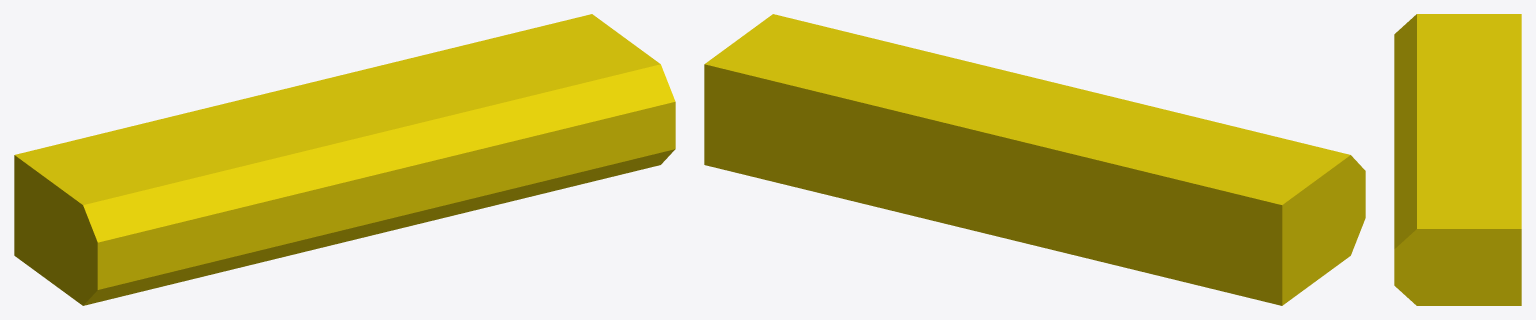
Rendered from obsticle.fbx.
3 renders of one model, left to right at view 1: azimuth 30°, elevation 25°; view 2: azimuth 150°, elevation 25°; view 3: azimuth 270°, elevation 25°, orthographic. The views are drawn at different scales.
Visible parts, largest first — view 1: obsticle; view 2: obsticle; view 3: obsticle.
Boxes of the visible parts, x1,y1,x2,y2 form: obsticle: (14,14,675,305); obsticle: (704,14,1365,305); obsticle: (1394,14,1521,305).
Bounding box in the file's own units: 0.6 × 0.1 × 0.15.
